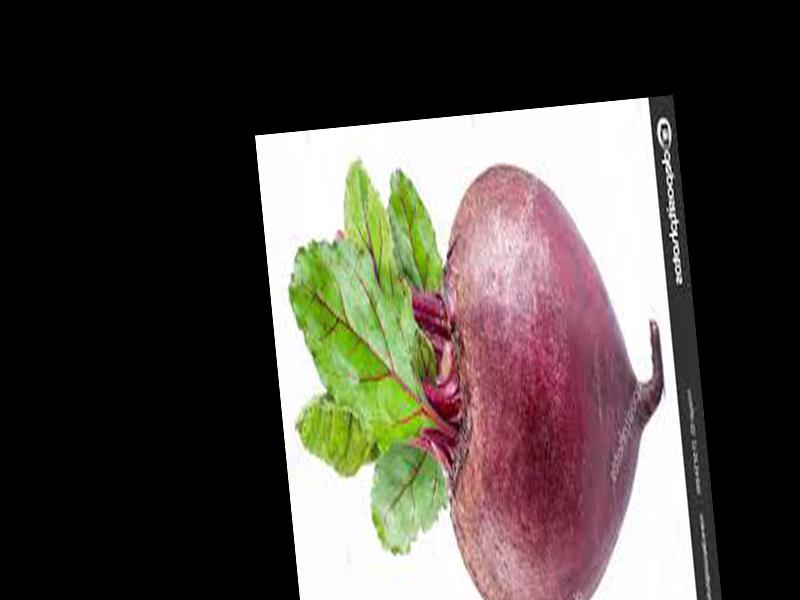Beet: (271, 134, 684, 600)
